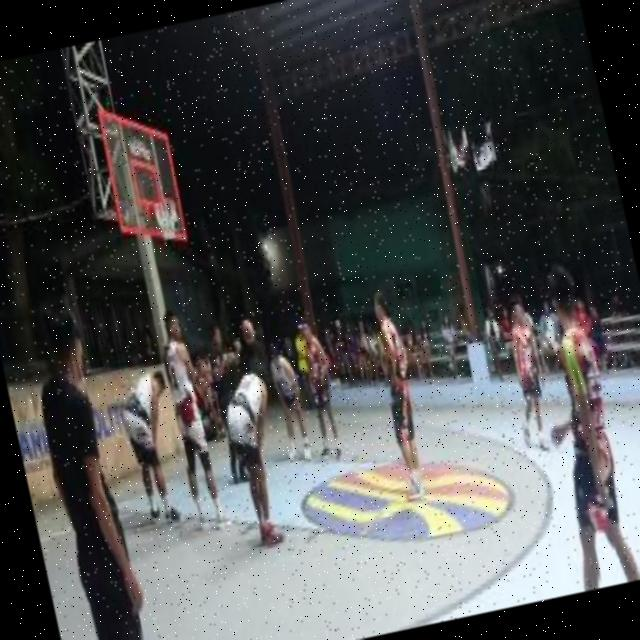ball: (236, 314, 258, 351)
hoop: (148, 193, 177, 210)
